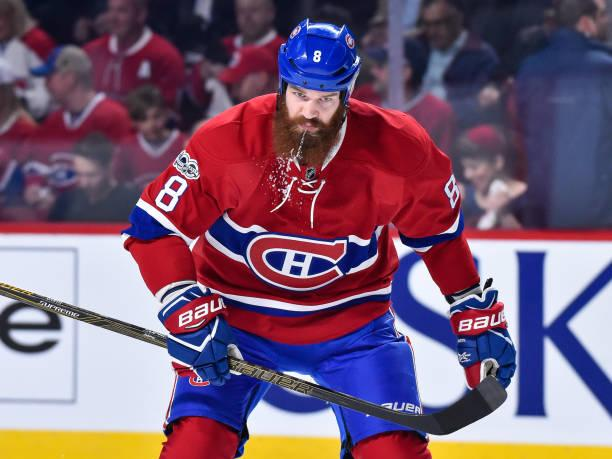Spitting: (238, 12, 390, 174)
